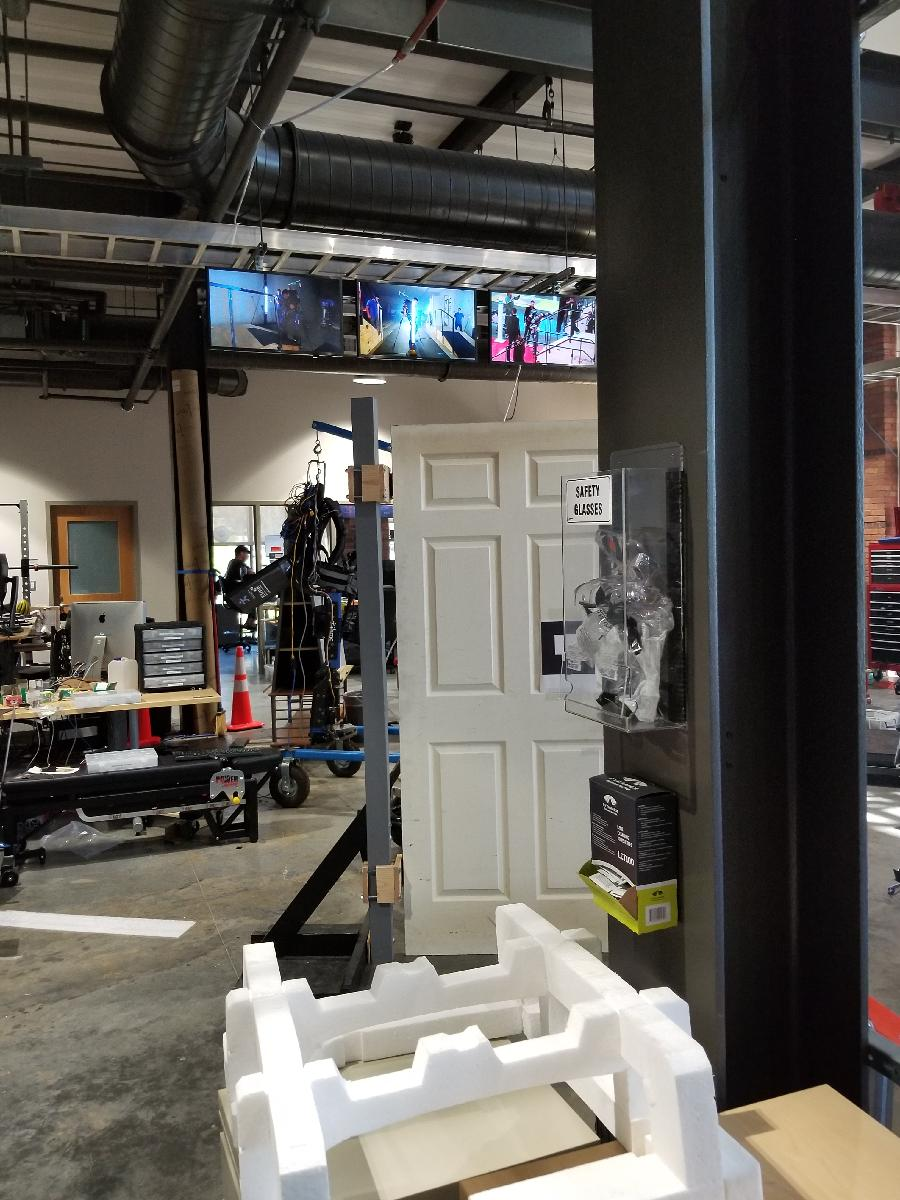door: (388, 420, 647, 967)
doorHandle: (594, 714, 638, 751)
